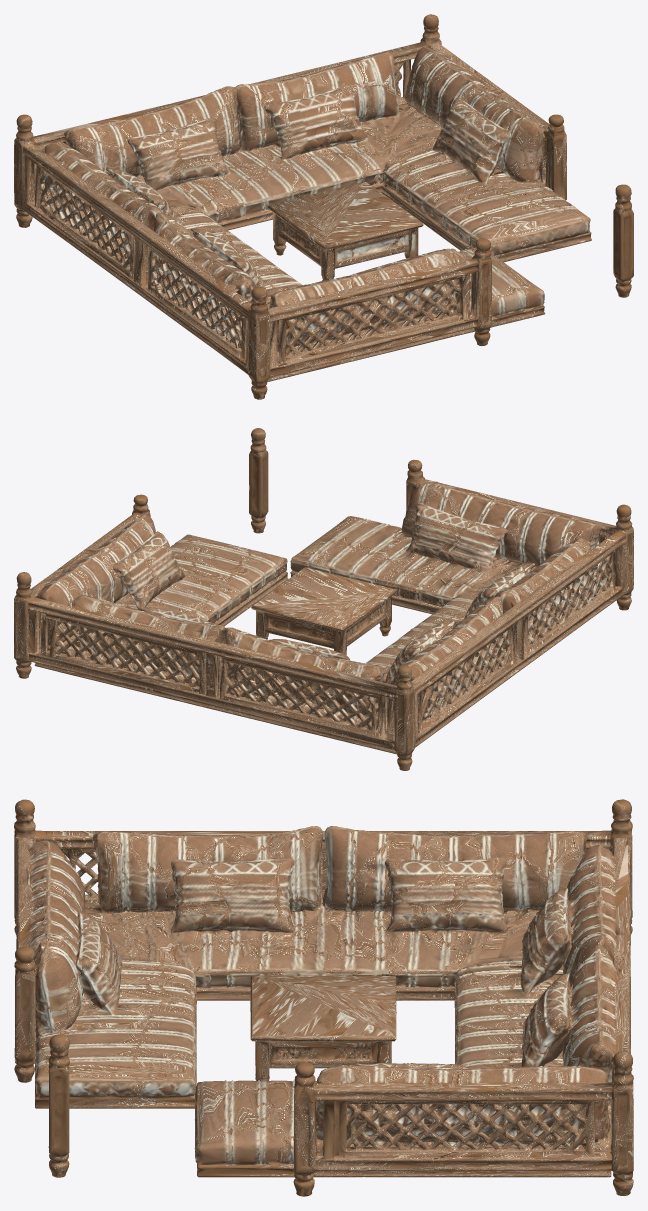
Rendered from majlisset.glb.
3 views of the same model, one above another, from view 1: azimuth 30°, elevation 25°; view 2: azimuth 150°, elevation 25°; view 3: azimuth 270°, elevation 25° (orthographic). The views are drawn at different scales.
Size of the model in its own units: 1.9 by 0.4767 by 1.9.
1 material, 1 textured.
